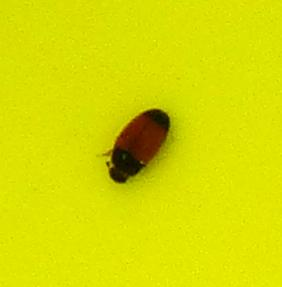Coleoptera: (100, 100, 182, 187)
